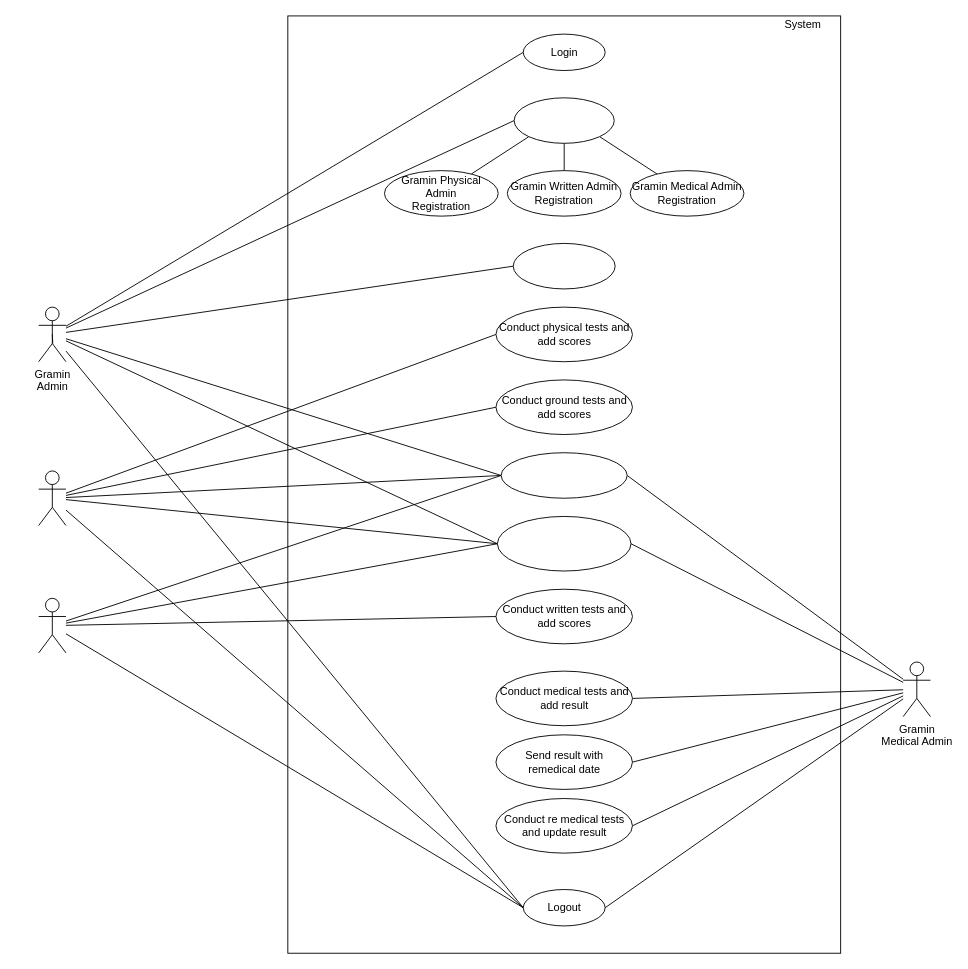
The diagram is 968 pixels wide and 969 high, and some of its shapes have lost their labels. The shapes that lost their labels are listed below. From the top down, each one's centre as x and y in pixels, then its label:
point (563, 120): Sub admin Registration
point (563, 266): Event plan and sebdubg nail
point (563, 475): Check data (result data)
point (52, 498): Gramin Physical Admin
point (563, 543): Submit data to immidiate super admin
point (52, 625): Gramin Written Admin
